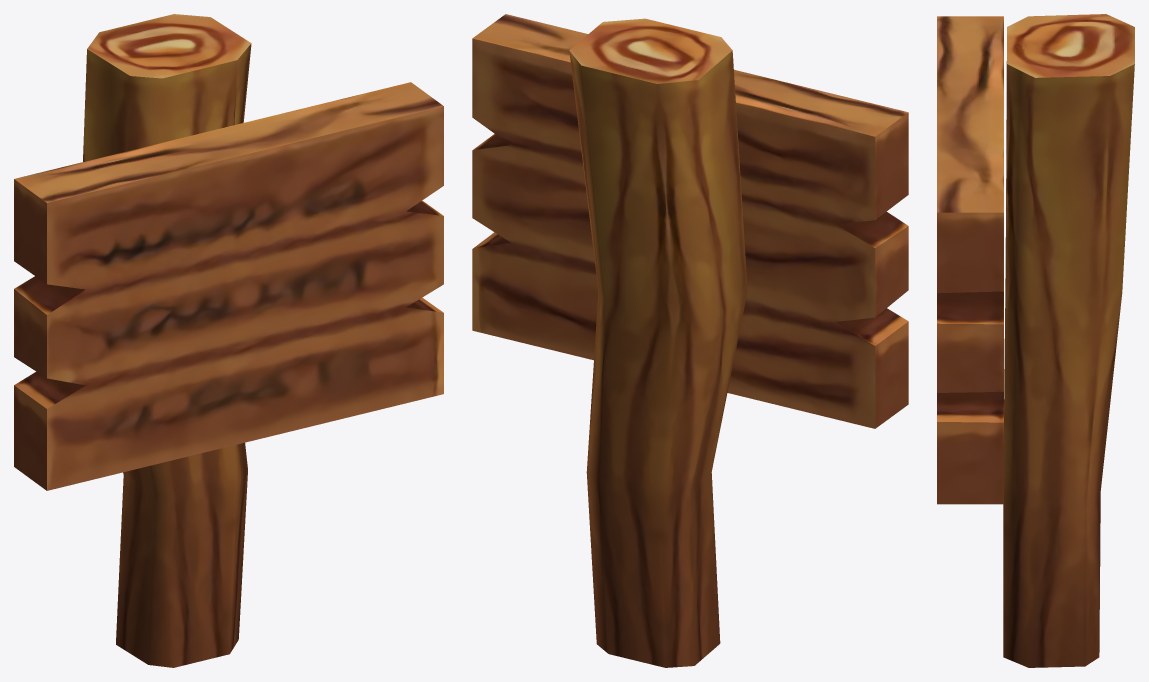
File: Signboard_001_HD.fbx
The picture shows the model from 3 angles, left to right: view 1: azimuth 30°, elevation 25°; view 2: azimuth 150°, elevation 25°; view 3: azimuth 270°, elevation 25°; orthographic projection.
Visible parts, largest first — view 1: It_021_Signboard; view 2: It_021_Signboard; view 3: It_021_Signboard.
Boxes of the visible parts, x1,y1,x2,y2 form: It_021_Signboard: (14, 14, 443, 667); It_021_Signboard: (472, 14, 908, 667); It_021_Signboard: (937, 14, 1134, 667).
Bounding box in the file's own units: 0.5854 × 0.832 × 0.2495.
